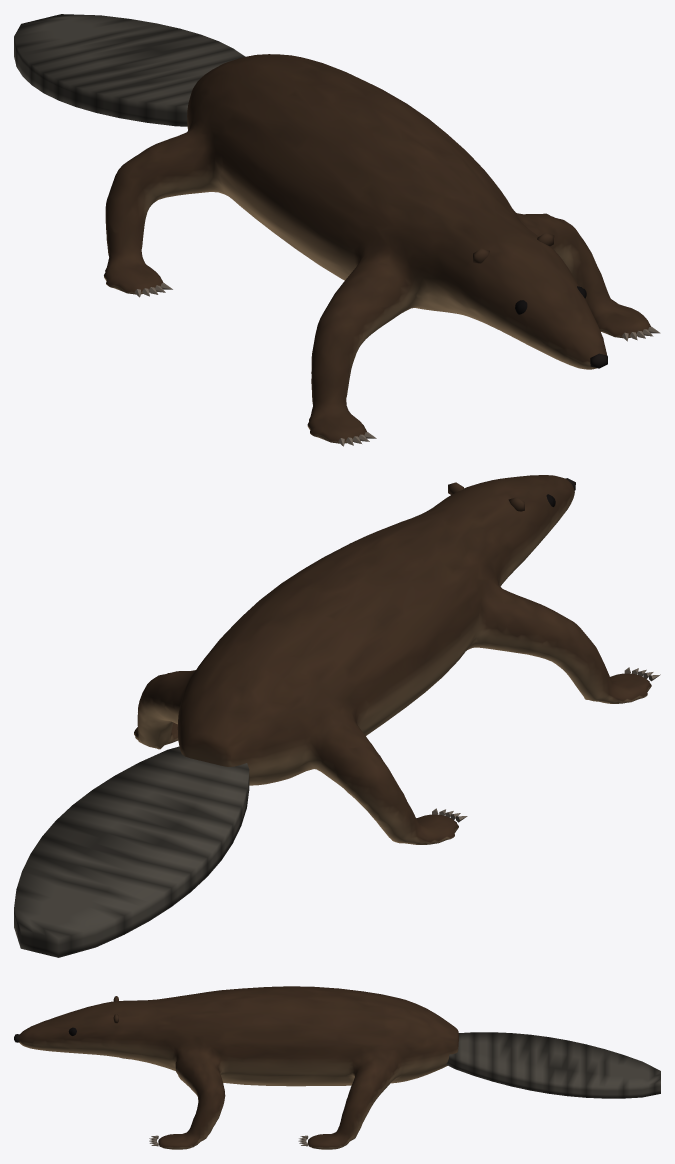
File: Castorocauda.fbx
The picture shows the model from 3 angles, top to bottom: view 1: azimuth 30°, elevation 25°; view 2: azimuth 150°, elevation 25°; view 3: azimuth 270°, elevation 25°; orthographic projection. The views are drawn at different scales.
Parts seen in each view (by area): view 1: Castorocauda; view 2: Castorocauda; view 3: Castorocauda.
Boxes of the visible parts, bbox=[...] form: Castorocauda: bbox=[14, 14, 660, 446]; Castorocauda: bbox=[14, 475, 660, 957]; Castorocauda: bbox=[14, 986, 660, 1149].
Size of the model in its own units: 0.4579 by 0.2238 by 1.21.
